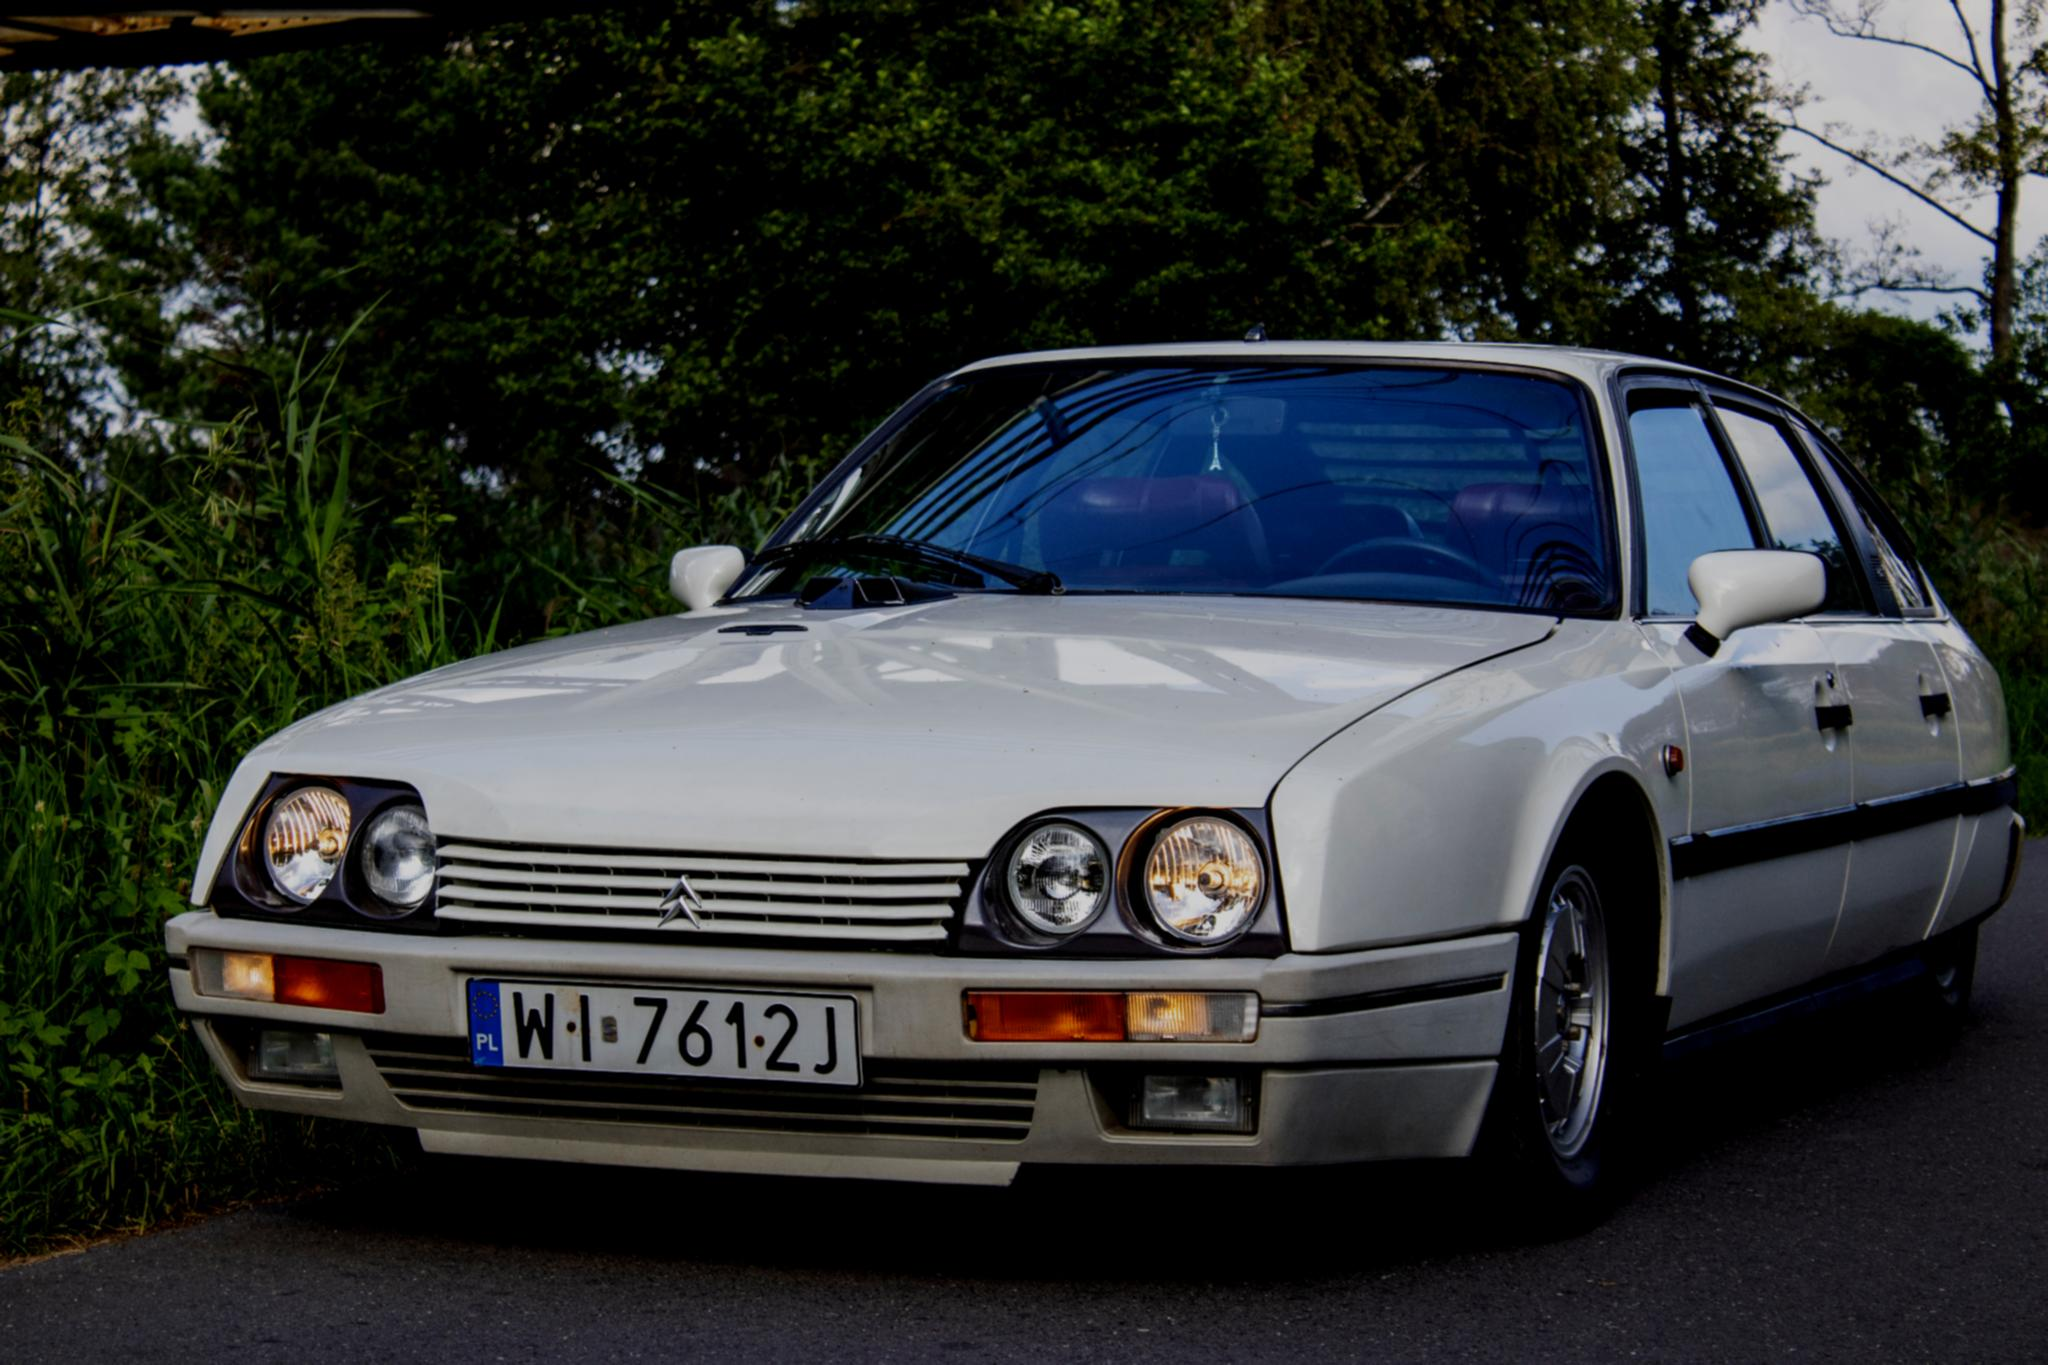Citroen: (621, 858, 728, 958)
